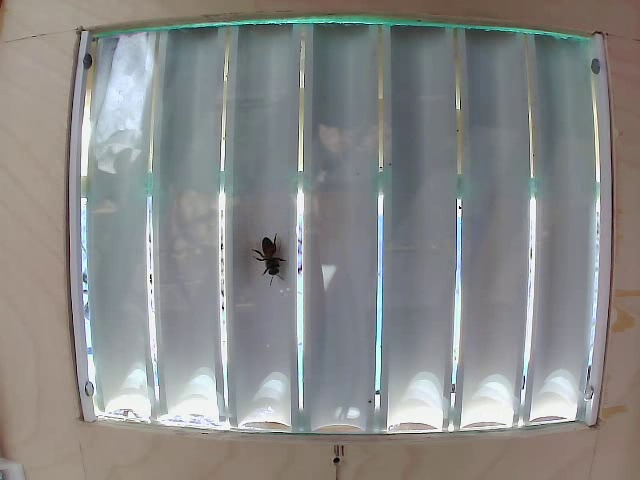bee: (259, 220, 289, 278)
